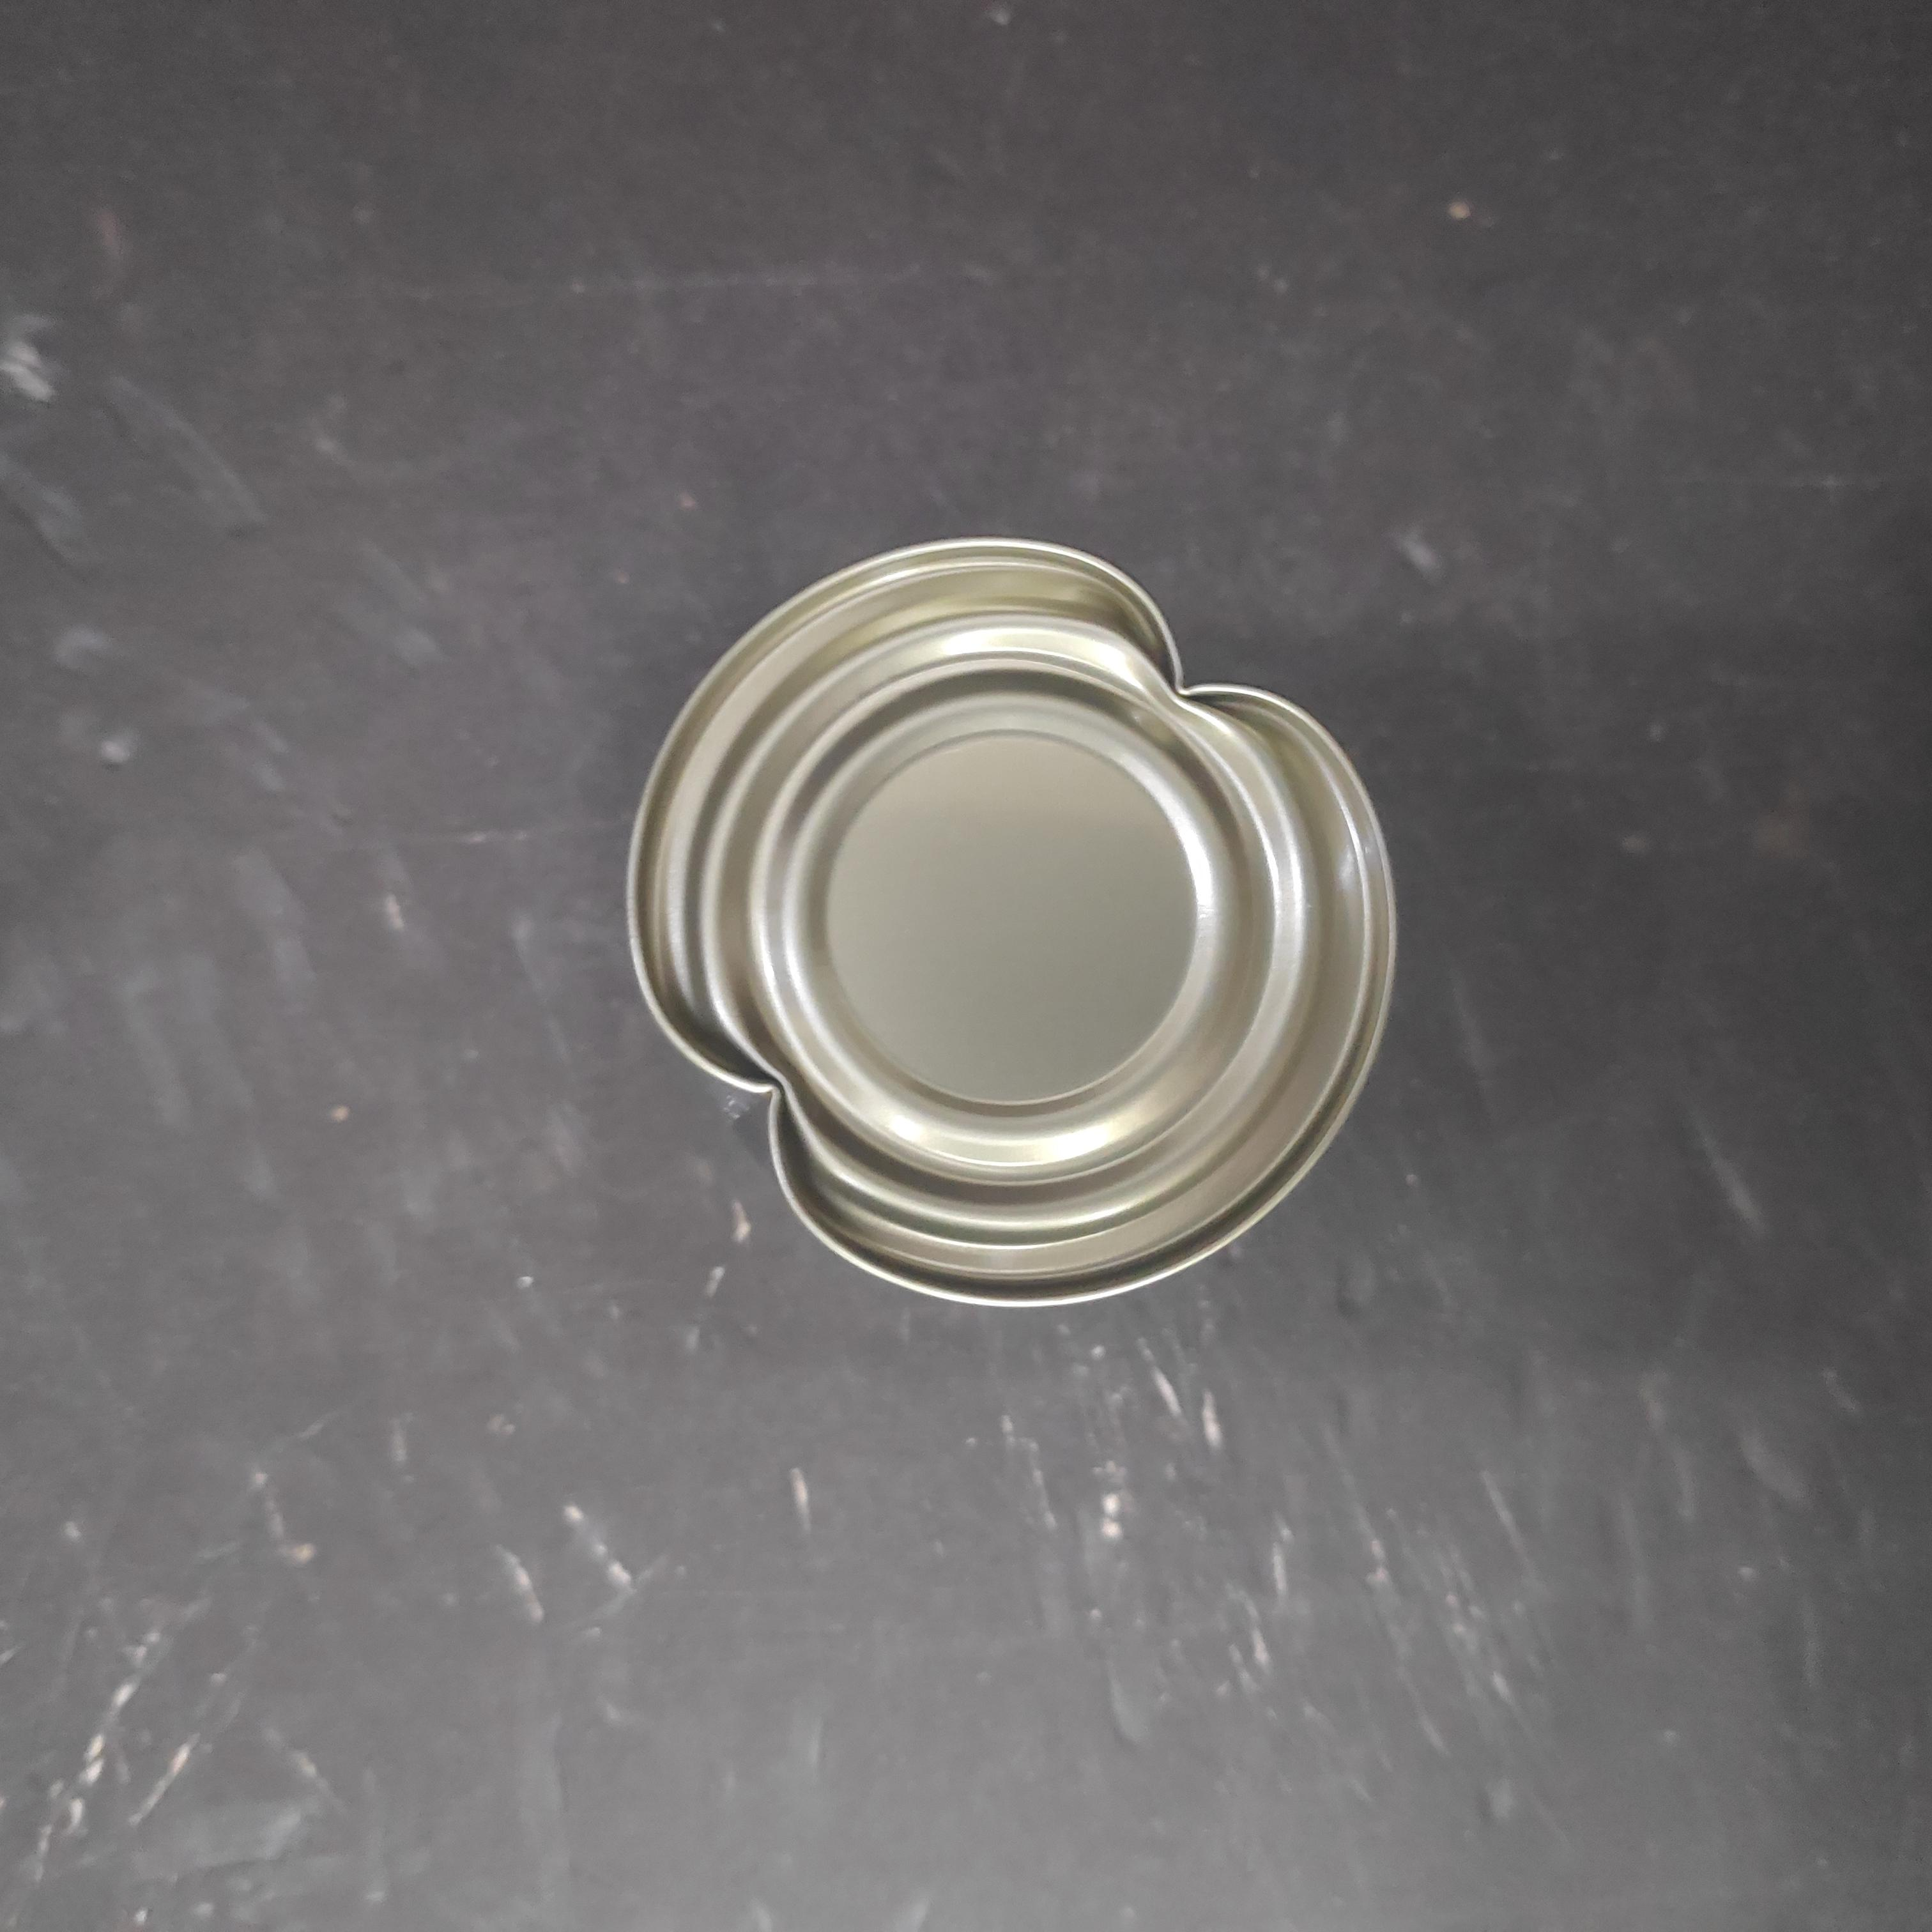Critical Defect: (529, 607, 1316, 1405)
